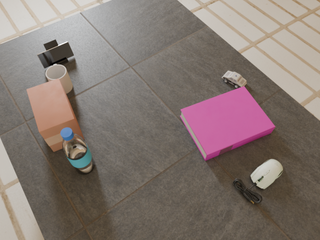book: (180, 86, 275, 161)
bottle: (61, 128, 95, 174)
box: (27, 78, 84, 152)
cup: (46, 64, 73, 94)
mouse: (251, 159, 283, 189)
phone: (37, 42, 74, 68)
toy_car: (222, 71, 247, 88)
